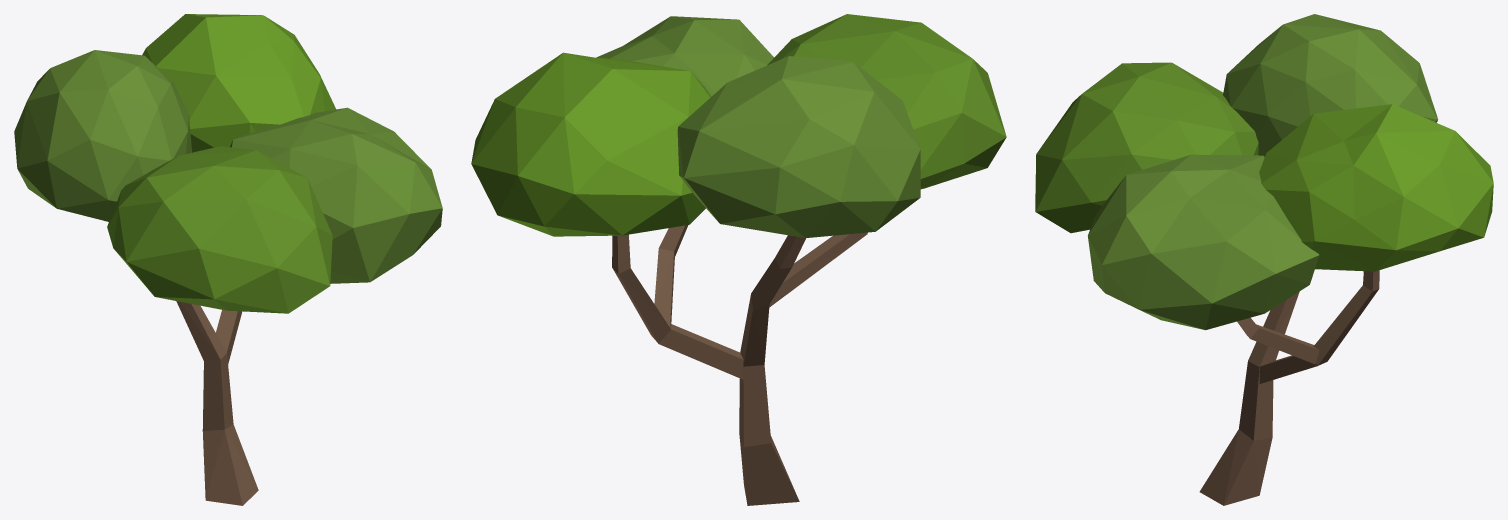
The model's file is tree_6.fbx.
The picture shows the model from 3 angles, left to right: view 1: azimuth 30°, elevation 25°; view 2: azimuth 150°, elevation 25°; view 3: azimuth 270°, elevation 25°; orthographic projection. The views are drawn at different scales.
Parts seen in each view (by area): view 1: tree_6; view 2: tree_6; view 3: tree_6.
Part boxes in pixels (box(x1,y1,x2,y2)): tree_6: box(14, 14, 442, 505); tree_6: box(471, 14, 1006, 505); tree_6: box(1035, 14, 1493, 505).
Bounding box in the file's own units: 735 × 843 × 819.
